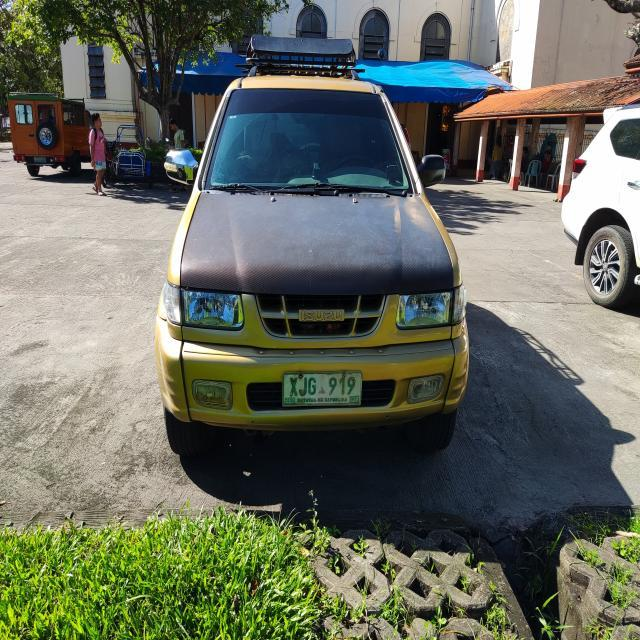LicensePlate: (283, 366, 367, 414)
